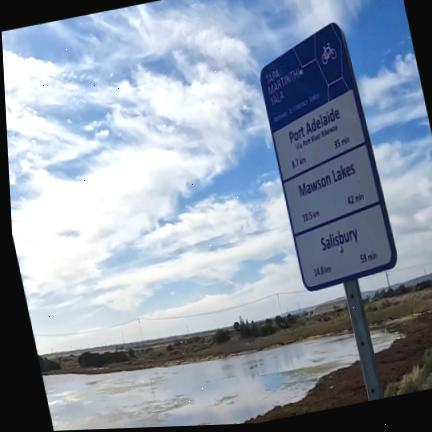Bike_Sign: (260, 22, 397, 401)
